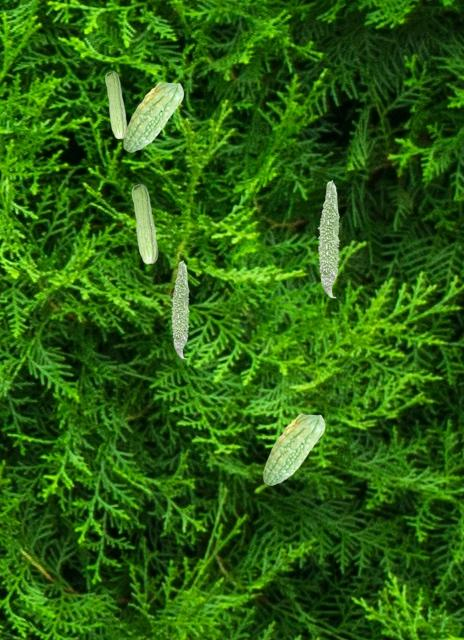ampalaya: (263, 413, 325, 486), (123, 81, 184, 152), (317, 179, 340, 298), (131, 184, 158, 264), (170, 259, 190, 359), (104, 71, 127, 139)
